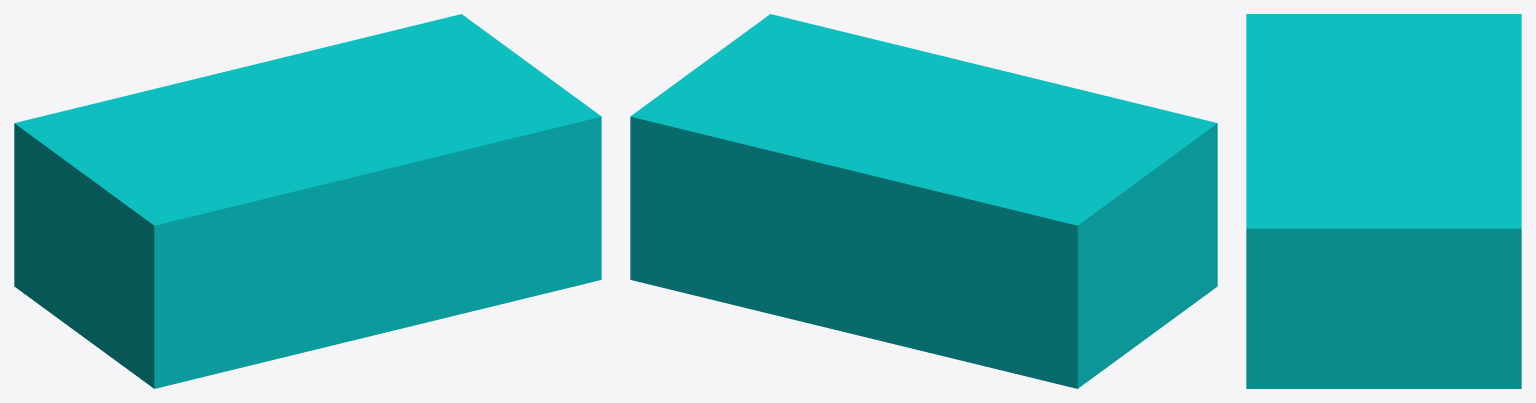
3 renders of one model, left to right at view 1: azimuth 30°, elevation 25°; view 2: azimuth 150°, elevation 25°; view 3: azimuth 270°, elevation 25°, orthographic.
Bounding box in the file's own units: 0.4352 × 0.1517 × 0.2361.
